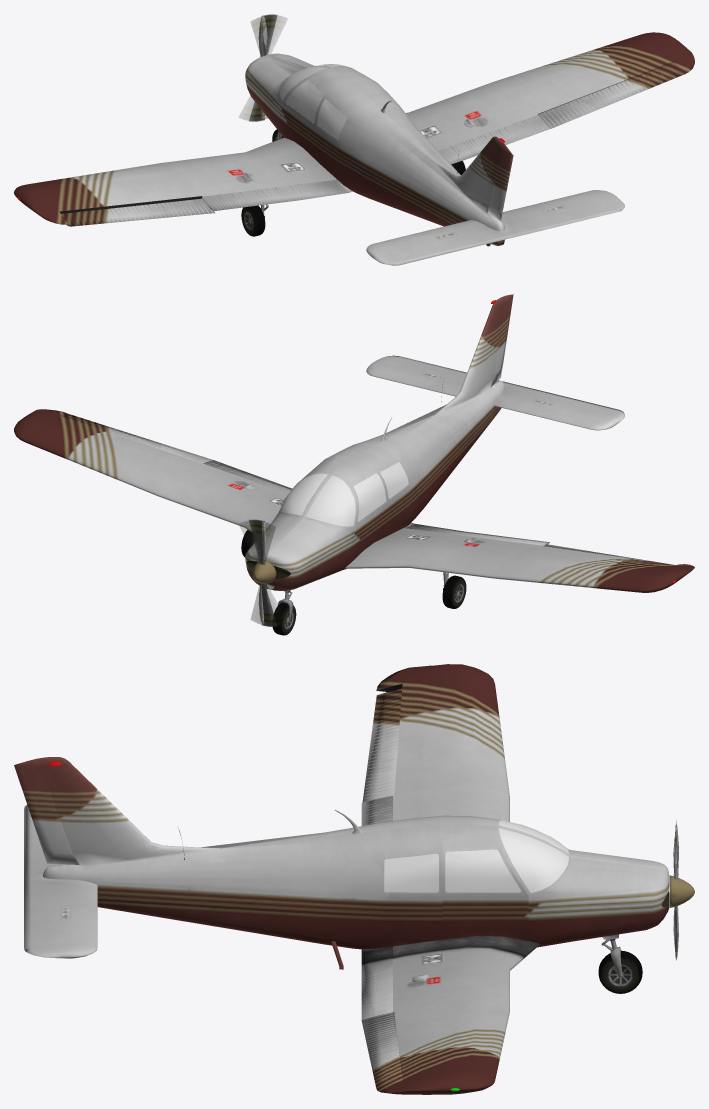
The picture shows the model from 3 angles, top to bottom: view 1: azimuth 30°, elevation 25°; view 2: azimuth 150°, elevation 25°; view 3: azimuth 270°, elevation 25°; orthographic projection. The views are drawn at different scales.
Parts seen in each view (by area): view 1: aileronD, vitreporteG, propblur; view 2: aileronD, vitreporteG, propblur; view 3: aileronD, vitreporteG.
Part boxes in pixels (left/top/right/bottom): aileronD: left=14, top=16, right=694, bottom=265; vitreporteG: left=279, top=64, right=347, bottom=139; propblur: left=239, top=14, right=287, bottom=121; aileronD: left=14, top=294, right=694, bottom=635; vitreporteG: left=279, top=462, right=408, bottom=526; propblur: left=239, top=519, right=287, bottom=626; aileronD: left=14, top=664, right=694, bottom=1094; vitreporteG: left=384, top=820, right=569, bottom=892.
Bounding box in the file's own units: 10.55 × 2.73 × 7.15.
Materials: 5 (2 with a texture image).
